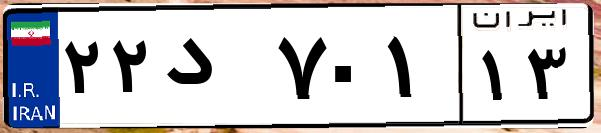0: (330, 28, 385, 110)
1: (385, 28, 445, 110), (475, 38, 525, 113)
2: (57, 26, 110, 100), (110, 28, 158, 98)
3: (525, 38, 570, 115)
7: (270, 28, 330, 110)
د: (158, 20, 270, 120)
